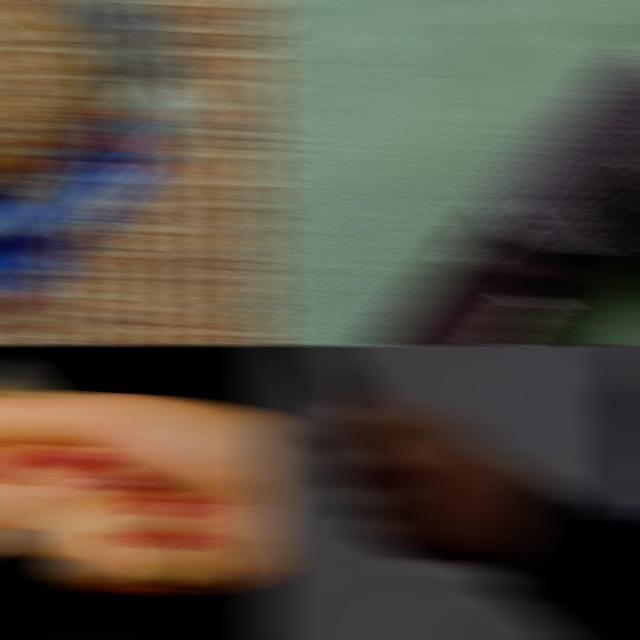Knife: (366, 51, 640, 346), (256, 344, 378, 414)
Knife_Handle: (0, 344, 280, 627), (256, 344, 485, 562)
